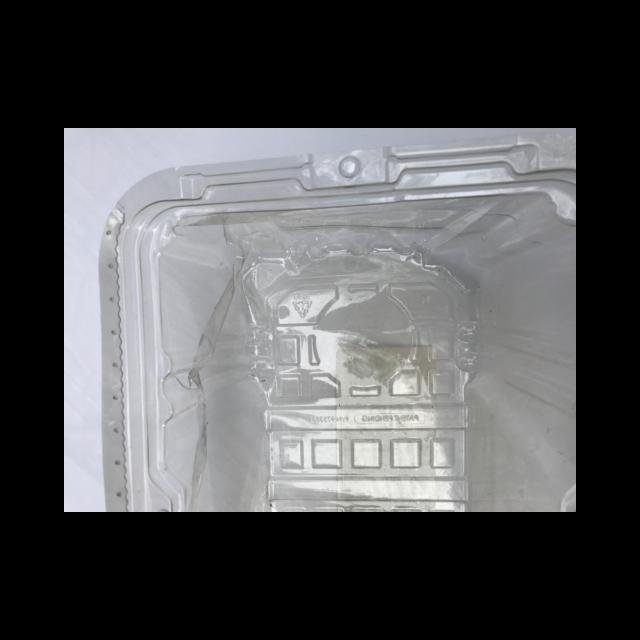plastic: (97, 129, 575, 511)
